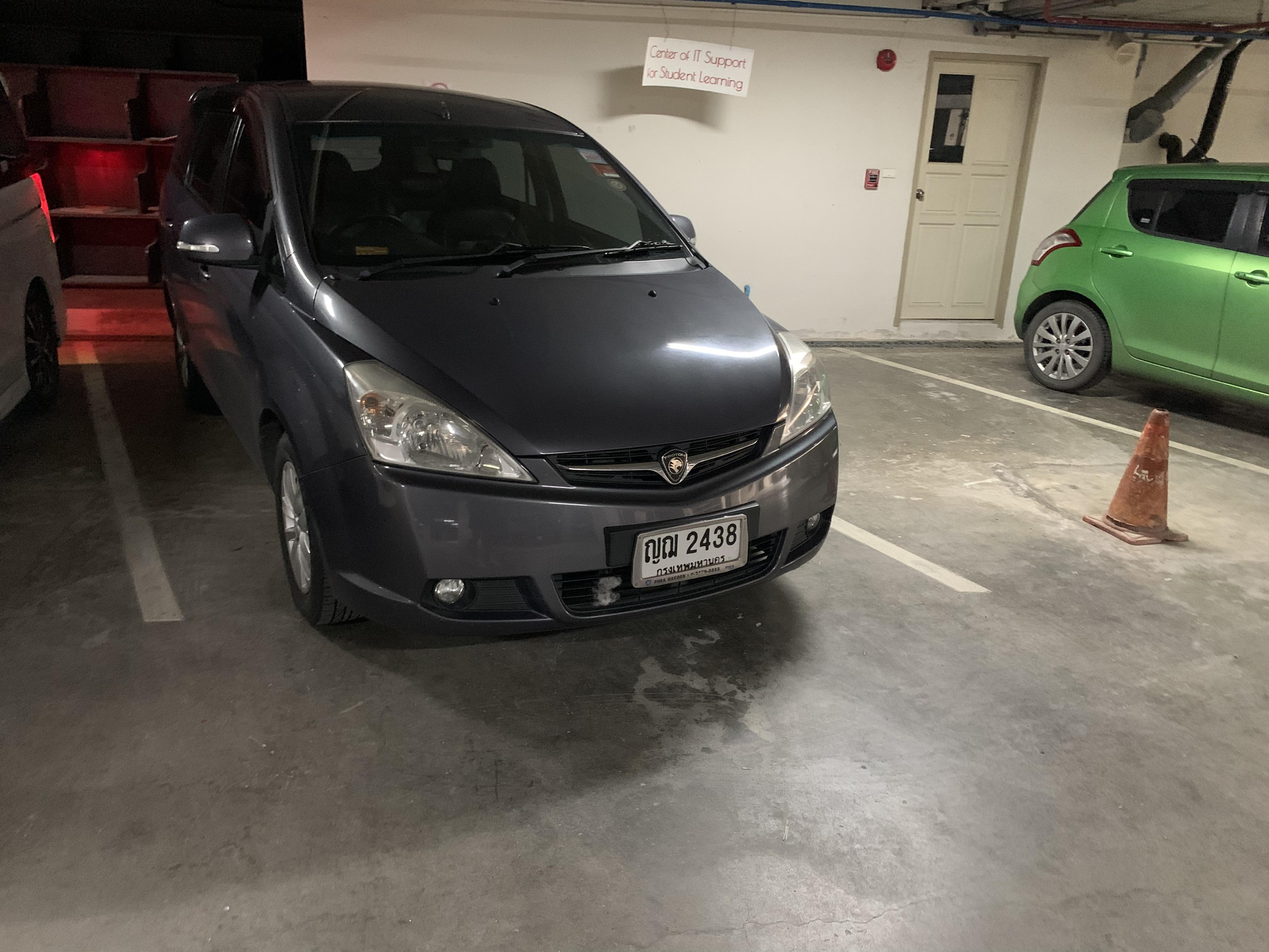license-plate: (632, 510, 753, 593)
